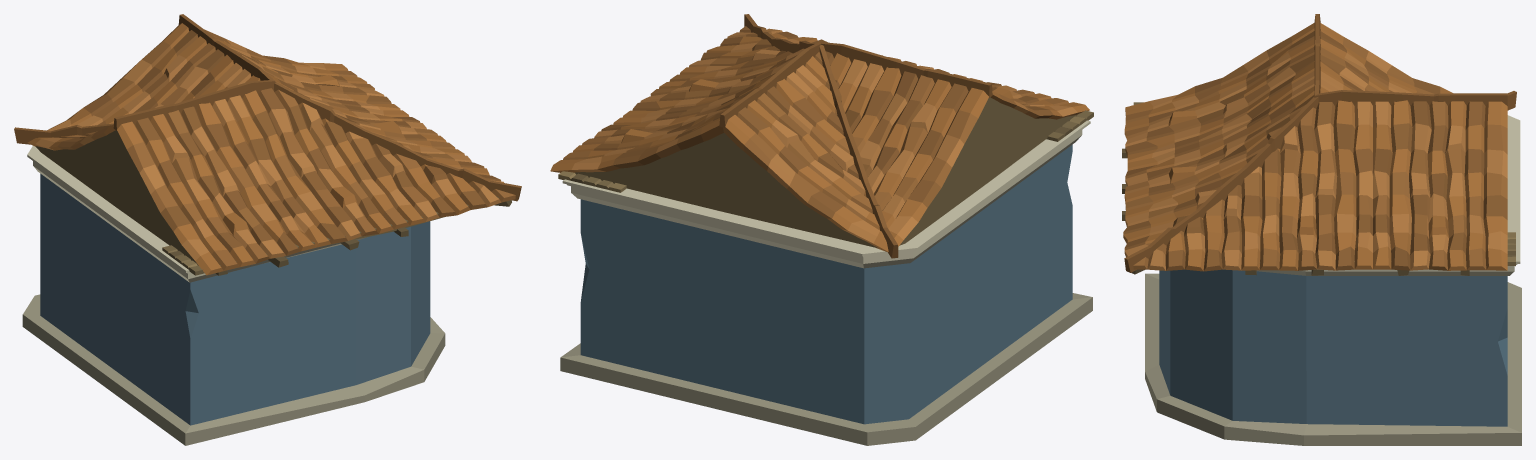
Rendered from BuildingBase_2.fbx.
The picture shows the model from 3 angles, left to right: view 1: azimuth 30°, elevation 25°; view 2: azimuth 150°, elevation 25°; view 3: azimuth 270°, elevation 25°; orthographic projection. The views are drawn at different scales.
Parts seen in each view (by area): view 1: BuildingBase_2; view 2: BuildingBase_2; view 3: BuildingBase_2.
Boxes of the visible parts, x1=… form: BuildingBase_2: x1=14, y1=14, x2=521, y2=445; BuildingBase_2: x1=550, y1=14, x2=1093, y2=445; BuildingBase_2: x1=1122, y1=14, x2=1521, y2=445.
Bounding box in the file's own units: 693 × 541 × 694.
